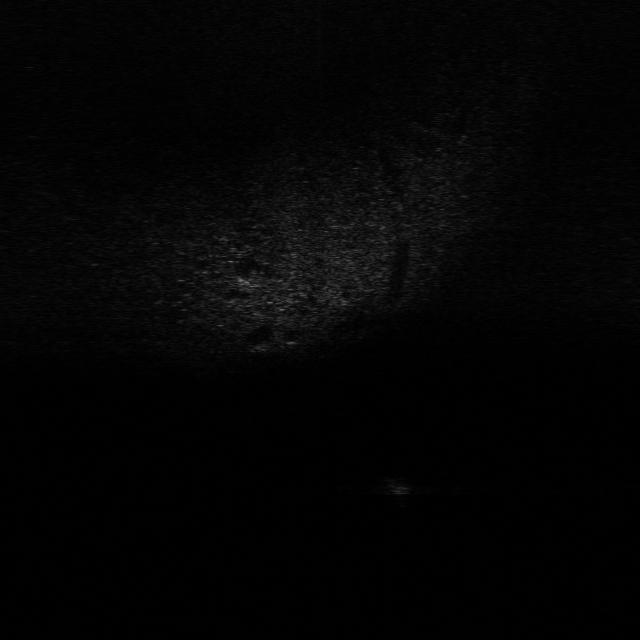cylinder: (382, 476, 414, 496)
